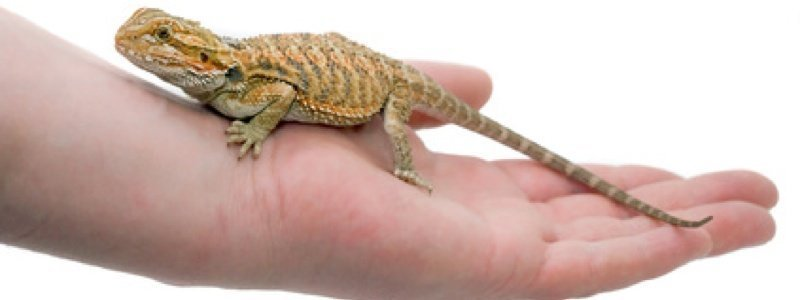bearded: (116, 6, 718, 241)
